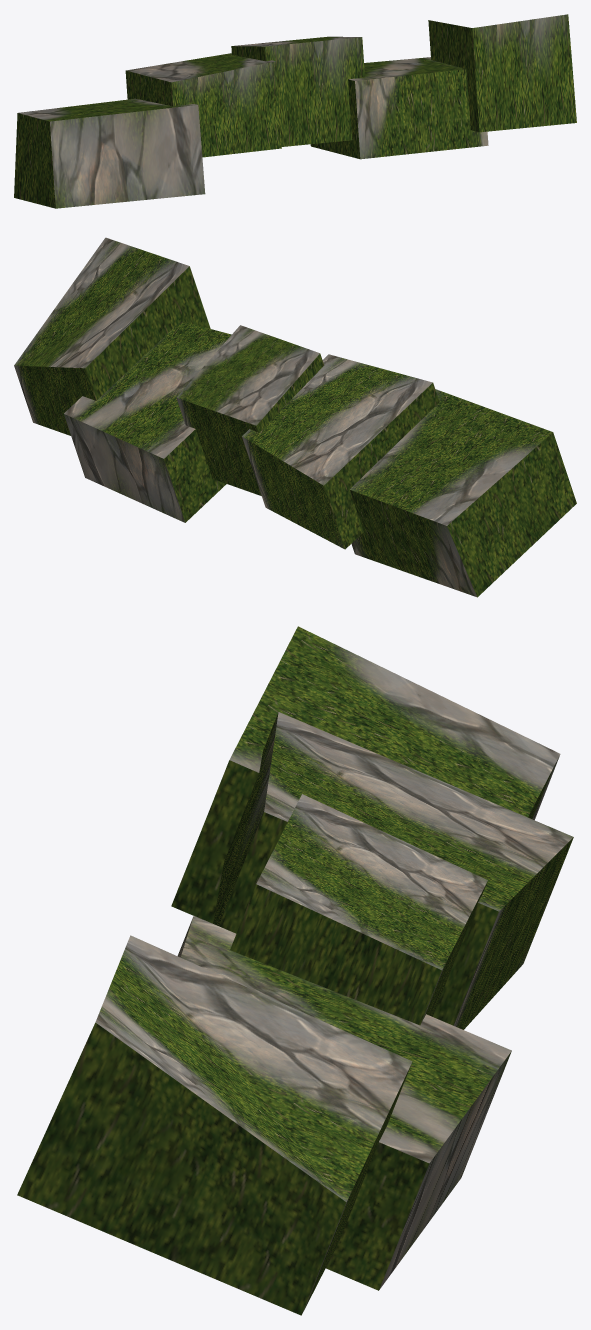
Rendered from rocs.fbx.
The picture shows the model from 3 angles, top to bottom: view 1: azimuth 30°, elevation 25°; view 2: azimuth 150°, elevation 25°; view 3: azimuth 270°, elevation 25°; orthographic projection. The views are drawn at different scales.
Visible parts, largest first — view 1: polySurface279; view 2: polySurface279; view 3: polySurface279.
Part boxes in pixels (x1,y1,x2,y2): polySurface279: (14,14,576,208); polySurface279: (14,237,576,597); polySurface279: (17,626,573,1315).
Size of the model in its own units: 376 by 116 by 182.
